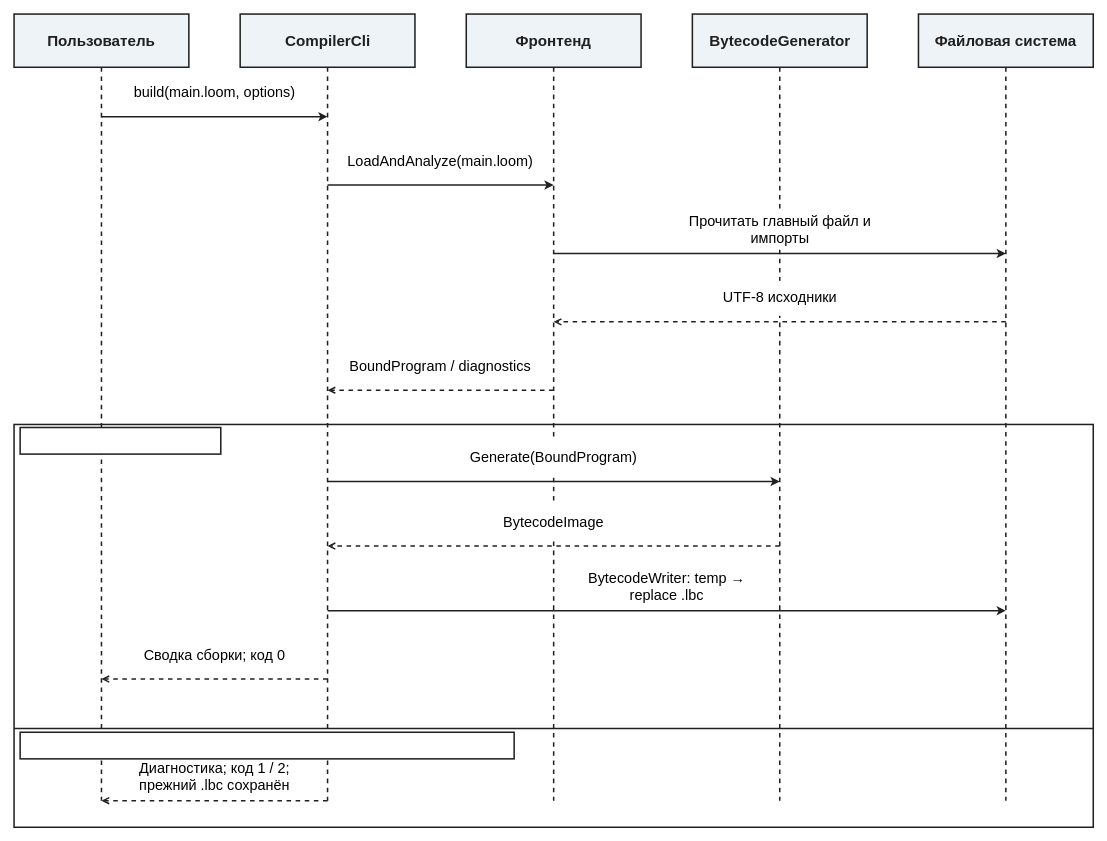
The diagram is 1107 pixels wide and 841 high, and some of its shapes have lost their labels. The centre of each missing label's shape, as x and y in pixels:
"[ошибка программы / ошибка I/O]" goes at point (267, 745).
"alt [ошибки отсутствуют]" goes at point (120, 440).
